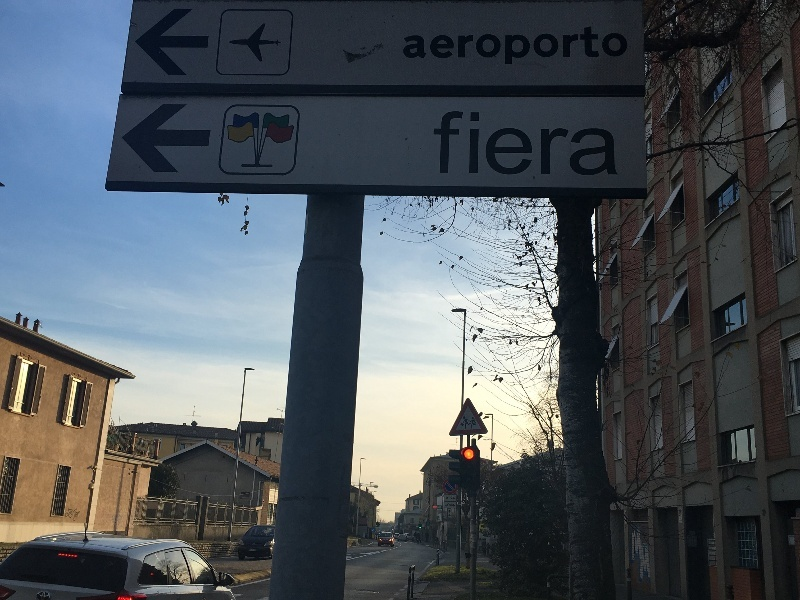text: (433, 109, 448, 178), (449, 109, 464, 178), (465, 109, 480, 178), (481, 109, 496, 178), (497, 109, 512, 178), (513, 109, 528, 178), (529, 109, 544, 178), (545, 109, 560, 178), (561, 109, 576, 178), (577, 109, 592, 178), (593, 109, 608, 178), (609, 109, 619, 178), (417, 23, 432, 67), (433, 23, 448, 67), (449, 23, 464, 67), (465, 23, 480, 67), (481, 23, 496, 67), (497, 23, 512, 67), (513, 23, 528, 67), (529, 23, 544, 67), (545, 23, 560, 67), (561, 23, 576, 67), (577, 23, 592, 67), (593, 23, 608, 67), (609, 23, 624, 67), (405, 23, 416, 67), (67, 508, 80, 525), (625, 23, 629, 67), (481, 525, 496, 528), (449, 497, 455, 500), (446, 497, 448, 500)
